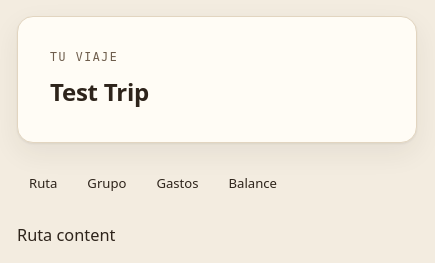
Scenario: TripShell › switches to Grupo tab when clicked
The width and height of the screenshot is (435, 263).
Click the button "Grupo". click: (107, 183)
box: x1=75 y1=161 x2=138 y2=205
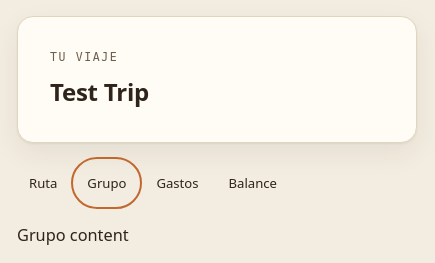
Expected: the text "Ruta content" is gone
Expected: the text "Grupo content" is shown, x1=17 y1=224 x2=129 y2=246
